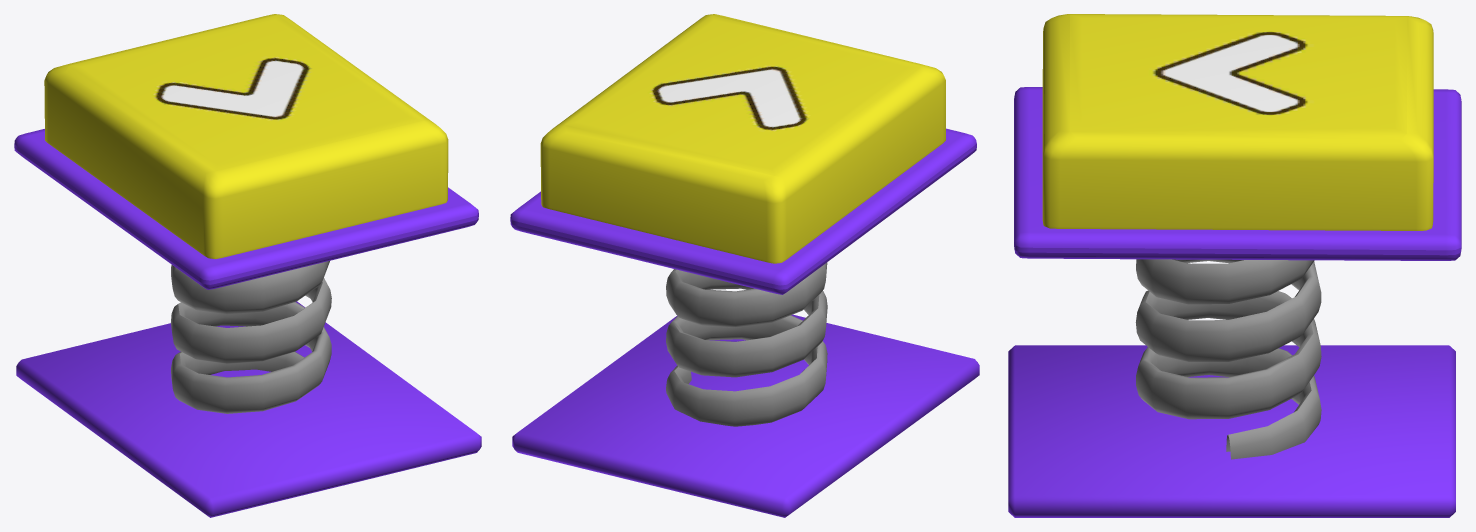
File: Jump Pad Yellow.fbx
The picture shows the model from 3 angles, left to right: view 1: azimuth 30°, elevation 25°; view 2: azimuth 150°, elevation 25°; view 3: azimuth 270°, elevation 25°; orthographic projection. The views are drawn at different scales.
Visible parts, largest first — view 1: jump_ramp, Jump Pad Yellow; view 2: jump_ramp, Jump Pad Yellow; view 3: jump_ramp, Jump Pad Yellow.
Boxes of the visible parts, x1=… form: jump_ramp: x1=14, y1=14, x2=478, y2=413; Jump Pad Yellow: x1=16, y1=301, x2=481, y2=517; jump_ramp: x1=510, y1=14, x2=976, y2=426; Jump Pad Yellow: x1=512, y1=314, x2=979, y2=517; jump_ramp: x1=1014, y1=14, x2=1461, y2=459; Jump Pad Yellow: x1=1008, y1=345, x2=1455, y2=517.
Size of the model in its own units: 3.3 by 3.68 by 4.08.
3 materials, 1 textured.
